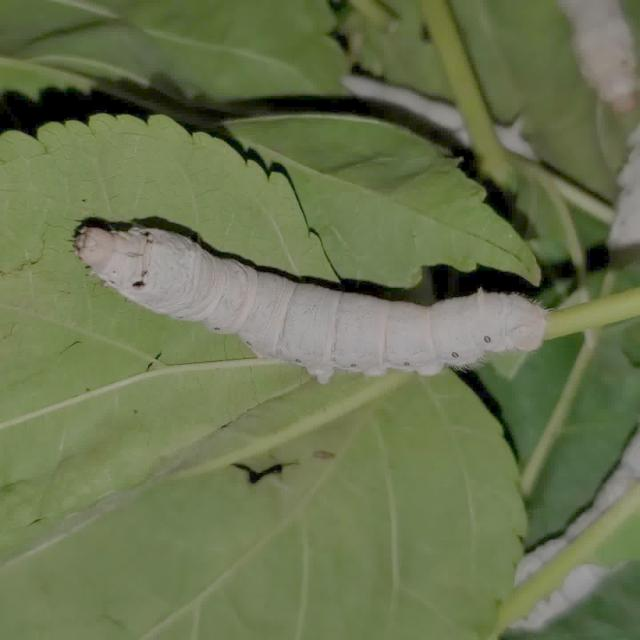Healthy: (61, 207, 552, 390)
